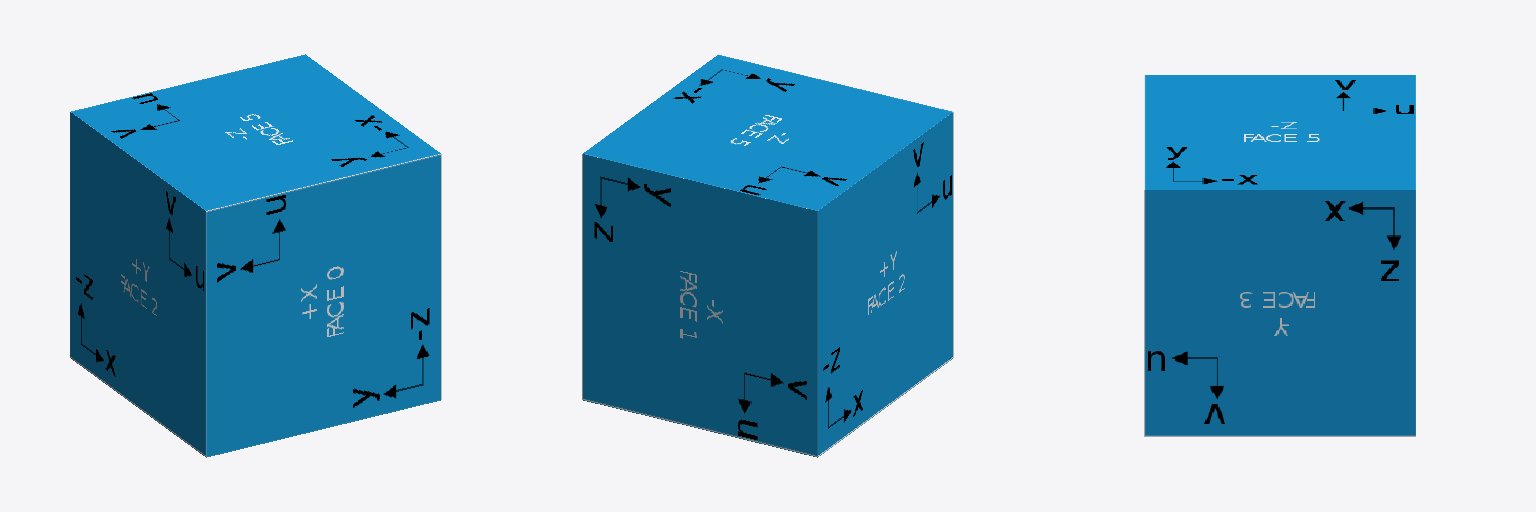
The picture shows the model from 3 angles: view 1: azimuth 30°, elevation 25°; view 2: azimuth 150°, elevation 25°; view 3: azimuth 270°, elevation 25°; orthographic projection.
Parts seen in each view (by area): view 1: Cube; view 2: Cube; view 3: Cube.
Part boxes in pixels (x1,y1,x2,y2): Cube: (70, 54, 441, 457); Cube: (582, 54, 953, 457); Cube: (1144, 75, 1415, 436).
Bounding box in the file's own units: 2 × 2 × 2.
Materials: 1 (1 with a texture image).